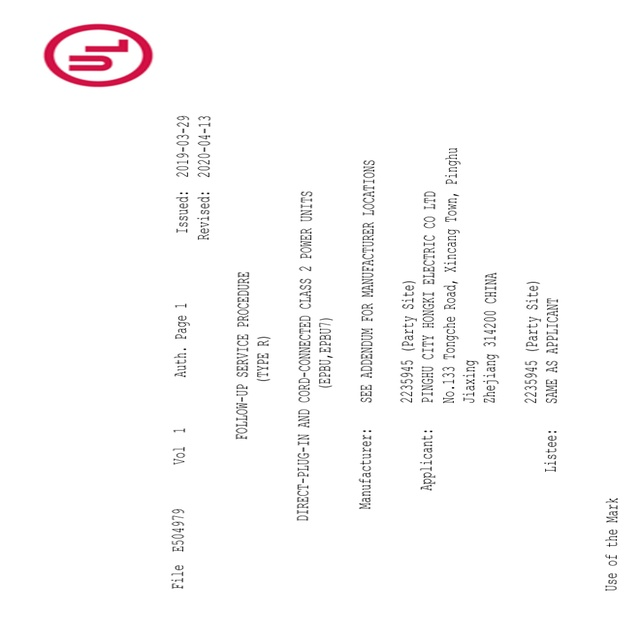ul: (40, 21, 157, 94)
